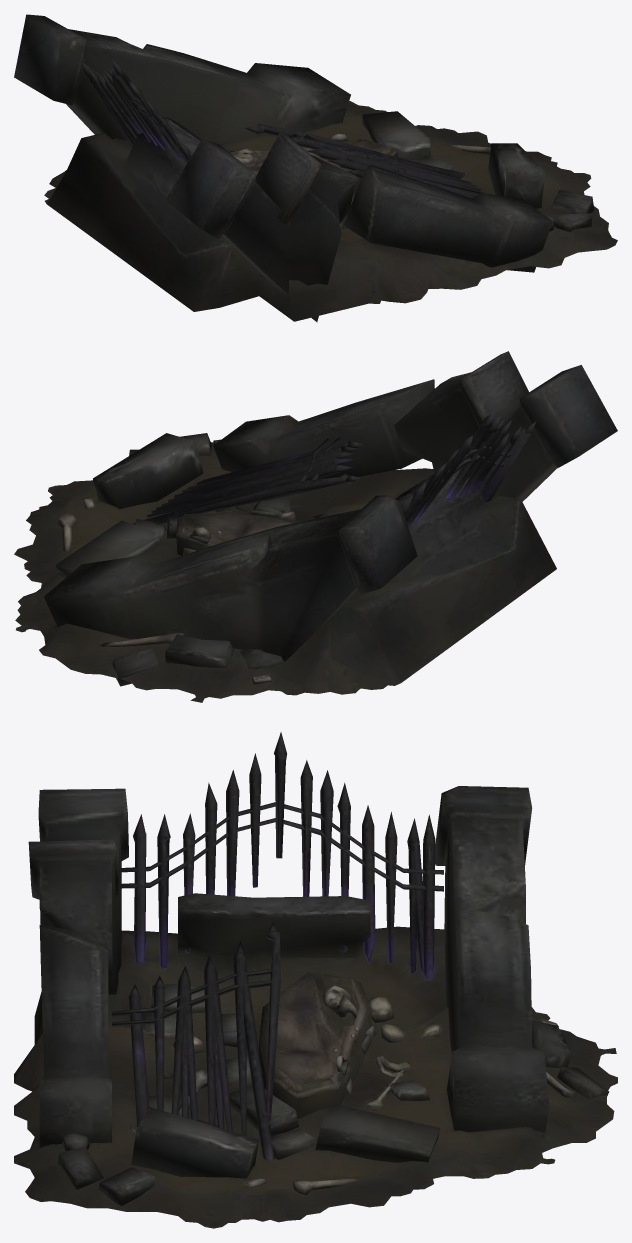
File: prop_node_crypt_collapse.glb
3 views of the same model, one above another, from view 1: azimuth 30°, elevation 25°; view 2: azimuth 150°, elevation 25°; view 3: azimuth 270°, elevation 25° (orthographic). The views are drawn at different scales.
Visible parts, largest first — view 1: tripo_node_b49dba17-2809-40bc-9ce0-7a4115dd1b2a; view 2: tripo_node_b49dba17-2809-40bc-9ce0-7a4115dd1b2a; view 3: tripo_node_b49dba17-2809-40bc-9ce0-7a4115dd1b2a.
Boxes of the visible parts, x1=… form: tripo_node_b49dba17-2809-40bc-9ce0-7a4115dd1b2a: x1=14, y1=14, x2=617, y2=322; tripo_node_b49dba17-2809-40bc-9ce0-7a4115dd1b2a: x1=14, y1=351, x2=617, y2=702; tripo_node_b49dba17-2809-40bc-9ce0-7a4115dd1b2a: x1=14, y1=732, x2=617, y2=1228.
Bounding box in the file's own units: 0.998 × 0.4512 × 0.9628.
1 material, 1 textured.
